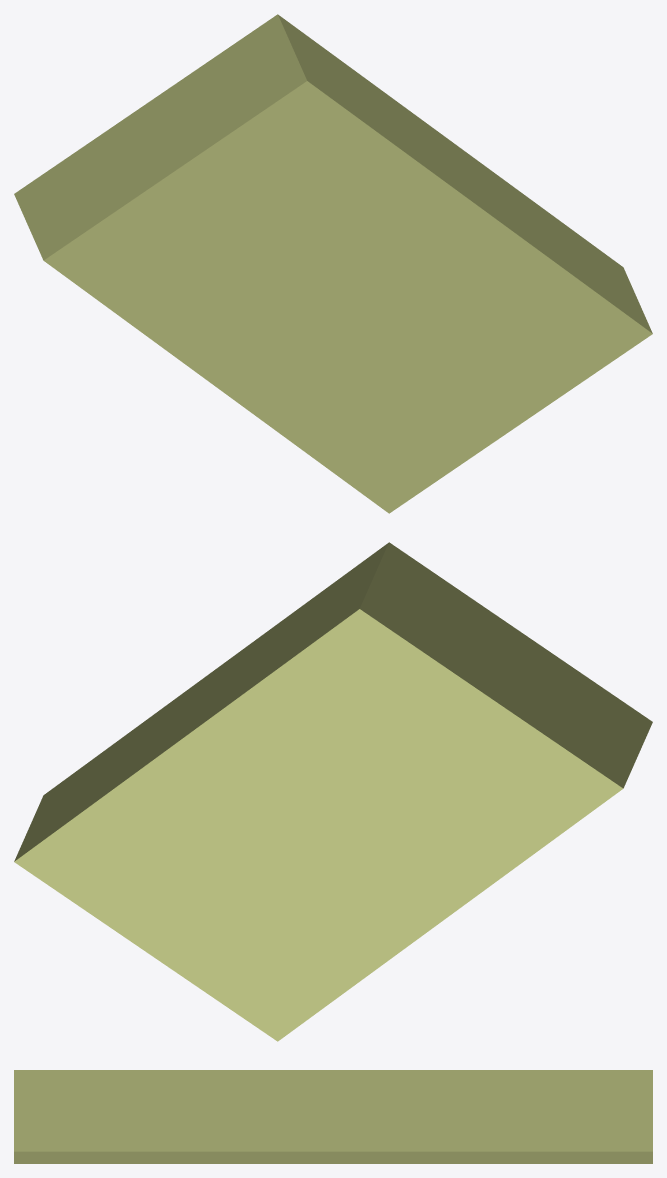
The picture shows the model from 3 angles, top to bottom: view 1: azimuth 30°, elevation 25°; view 2: azimuth 150°, elevation 25°; view 3: azimuth 270°, elevation 25°; orthographic projection. The views are drawn at different scales.
Visible parts, largest first — view 1: 0_2_2_0_0_0_0_2_2_1_2_1; view 2: 0_2_2_0_0_0_0_2_2_1_2_1; view 3: 0_2_2_0_0_0_0_2_2_1_2_1.
Part boxes in pixels (x1=…): 0_2_2_0_0_0_0_2_2_1_2_1: x1=14, y1=14, x2=652, y2=513; 0_2_2_0_0_0_0_2_2_1_2_1: x1=14, y1=542, x2=652, y2=1041; 0_2_2_0_0_0_0_2_2_1_2_1: x1=14, y1=1070, x2=652, y2=1163.
Bounding box in the file's own units: 4.41 × 2.72 × 9.
